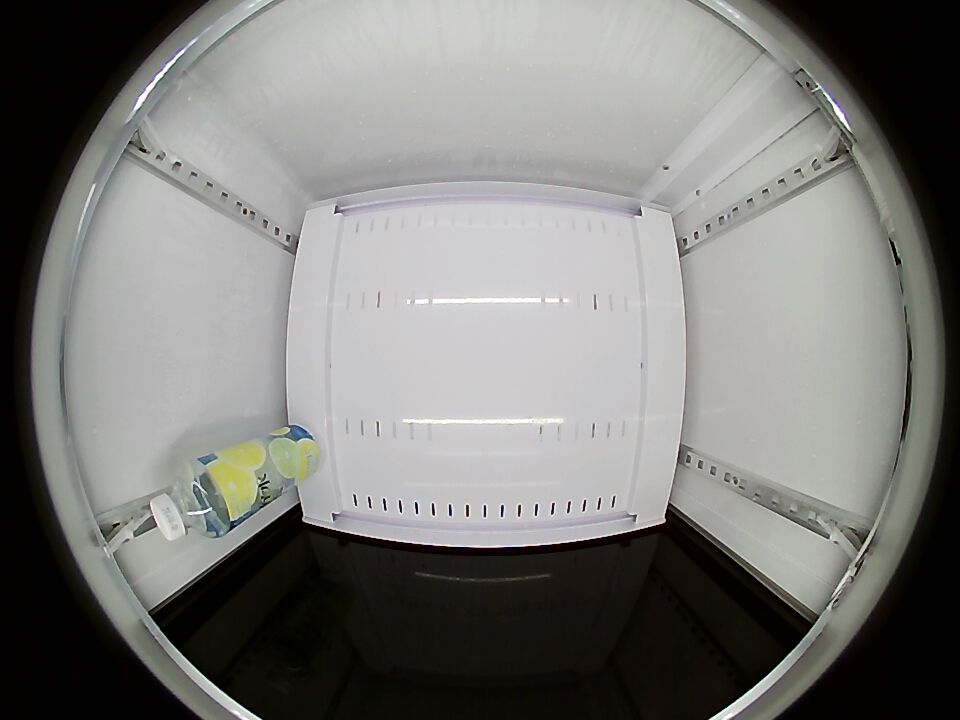qinningshui: (149, 460, 235, 541)
